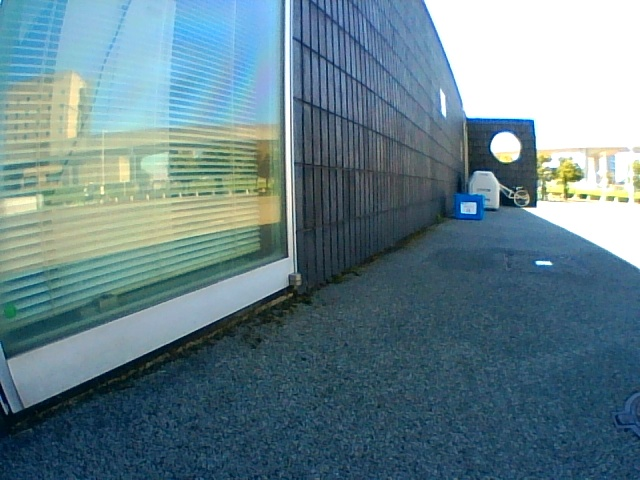blue_box: (454, 193, 485, 220)
tag: (461, 202, 476, 213)
